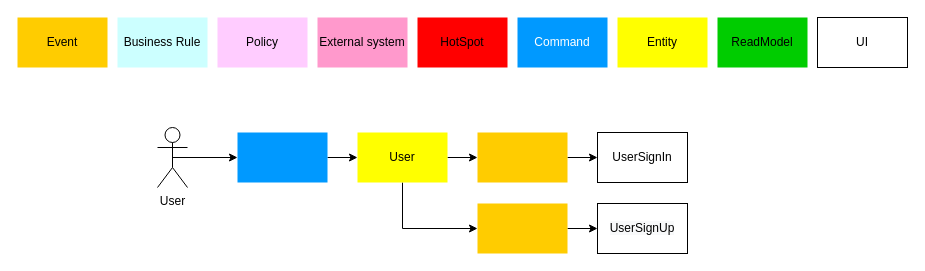
The diagram is 925 pixels wide and 271 high, and some of its shapes have lost their labels. Here are the shapes that lost their labels. From the top down, the centre of each, then its label:
At pixel 282 157: "Verify user".
At pixel 522 157: "User verified".
At pixel 522 228: "User verification failed".
